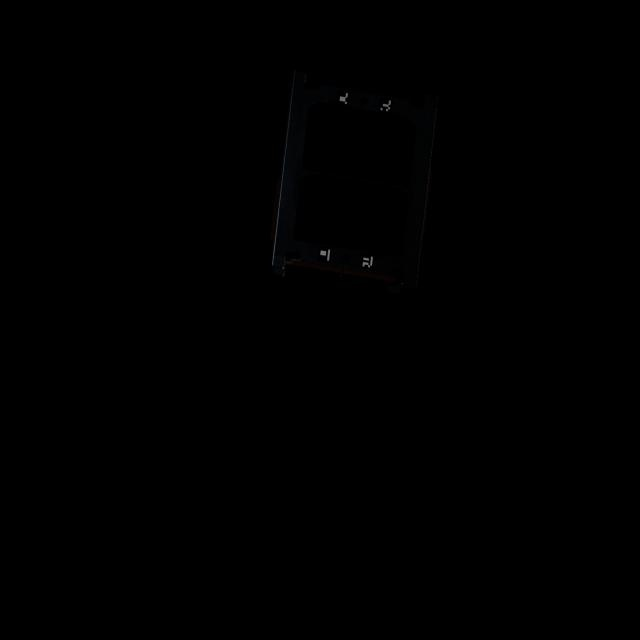satellite: (271, 59, 443, 287)
